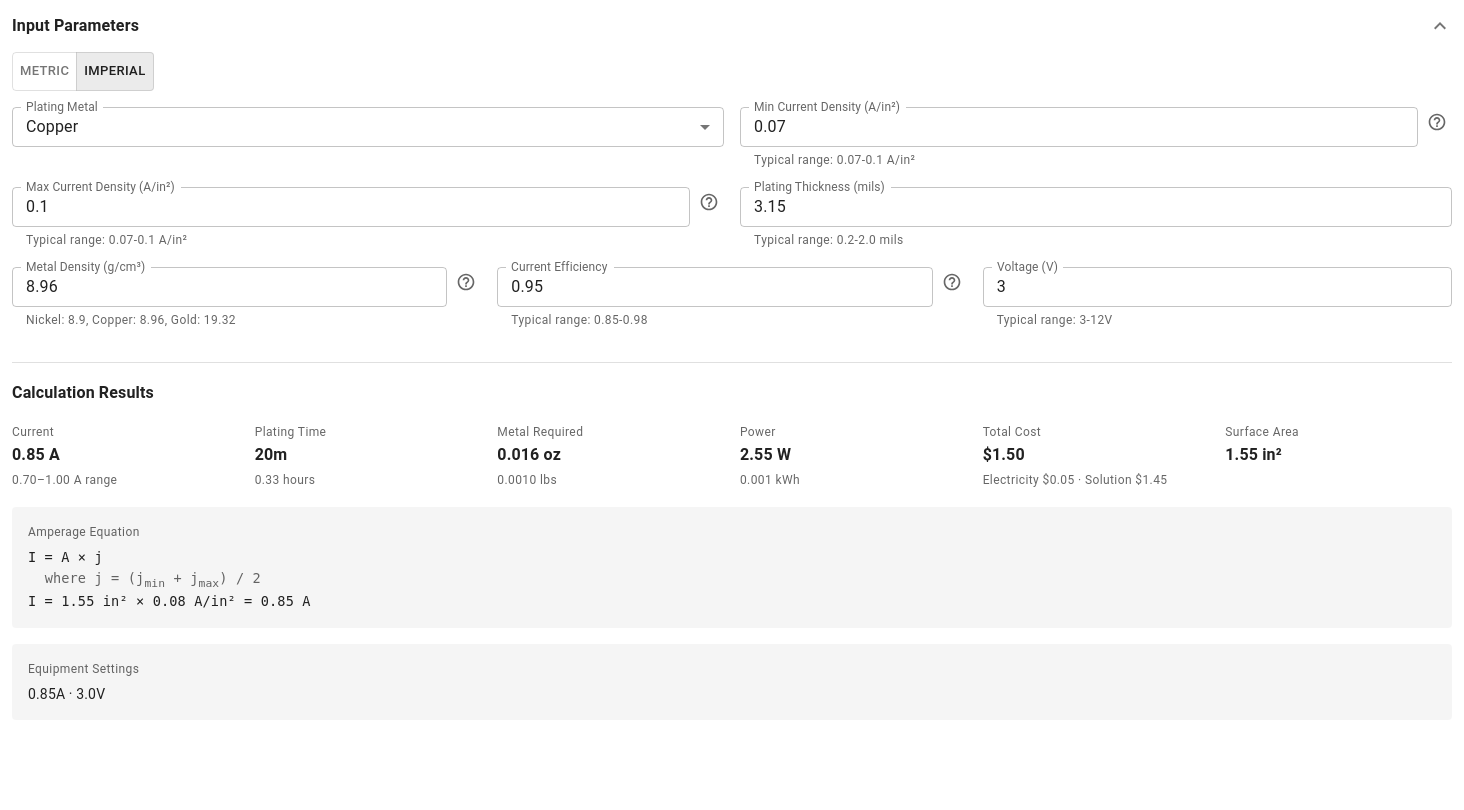
Test: ElectroplatingCalculator › displays surface area correctly based on unit system when results are shown
expect the text "Min Current Density (A/in²)" is shown: met, box x1=754 y1=98 x2=900 y2=115
Switch to metric units
Click the button "Metric" at (45, 71), box x1=12 y1=52 x2=77 y2=91
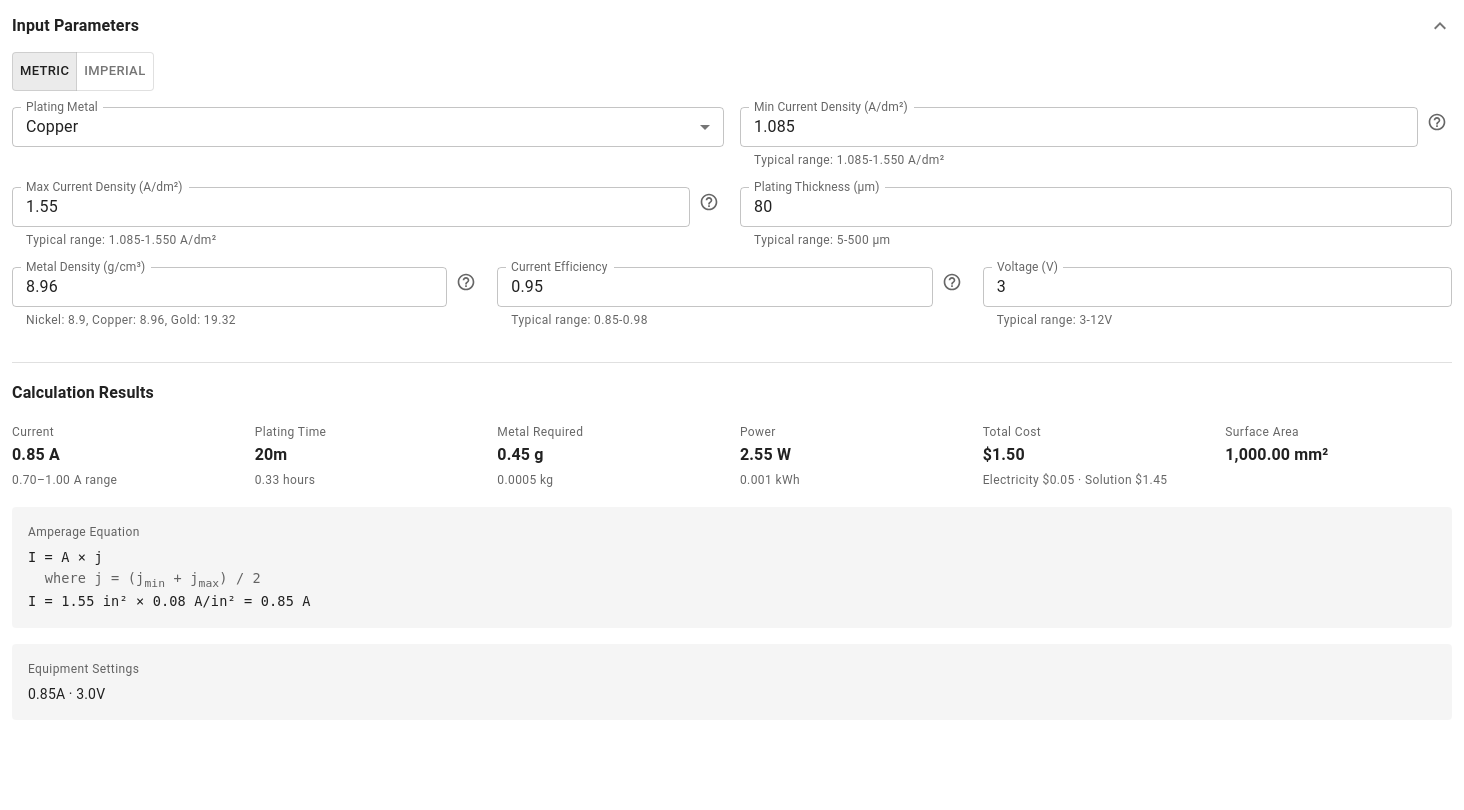
expect the text "1,000.00 mm²" is shown: met, box x1=1225 y1=445 x2=1328 y2=464
